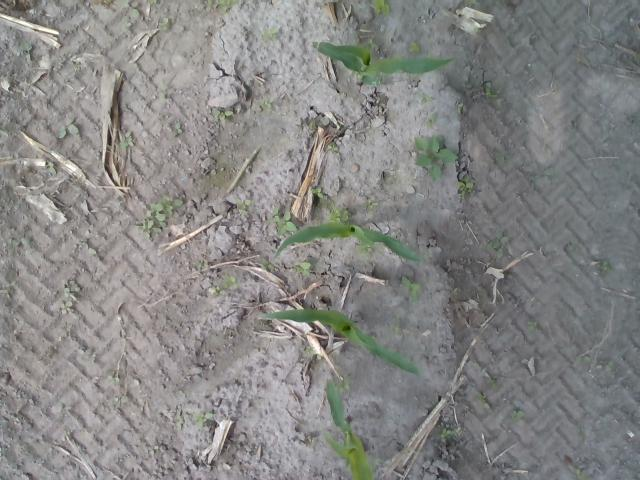Maize: (254, 306, 428, 378), (274, 215, 422, 268), (308, 40, 454, 80), (321, 376, 370, 480)
Weeds: (410, 133, 460, 182), (138, 196, 188, 238), (310, 185, 350, 224), (268, 208, 298, 235), (487, 228, 512, 257), (30, 156, 56, 178), (120, 7, 142, 32), (61, 281, 77, 315), (402, 278, 424, 301), (7, 238, 32, 258), (457, 176, 478, 199), (192, 409, 214, 428), (55, 123, 80, 139), (208, 0, 236, 14), (478, 80, 499, 97), (371, 0, 392, 16), (335, 377, 354, 394), (292, 262, 312, 276), (262, 27, 278, 44), (494, 152, 514, 165), (212, 108, 232, 121), (222, 275, 240, 289), (120, 133, 134, 148), (438, 424, 453, 438), (511, 408, 526, 422), (236, 198, 252, 210), (408, 42, 422, 55), (454, 102, 469, 114), (258, 98, 272, 110), (194, 260, 210, 270), (601, 259, 613, 272), (574, 469, 588, 480), (302, 344, 316, 354), (528, 320, 540, 331), (477, 393, 488, 404), (260, 258, 270, 270), (424, 115, 434, 127), (174, 121, 183, 134), (327, 141, 338, 151), (368, 198, 377, 210), (210, 286, 221, 295)
